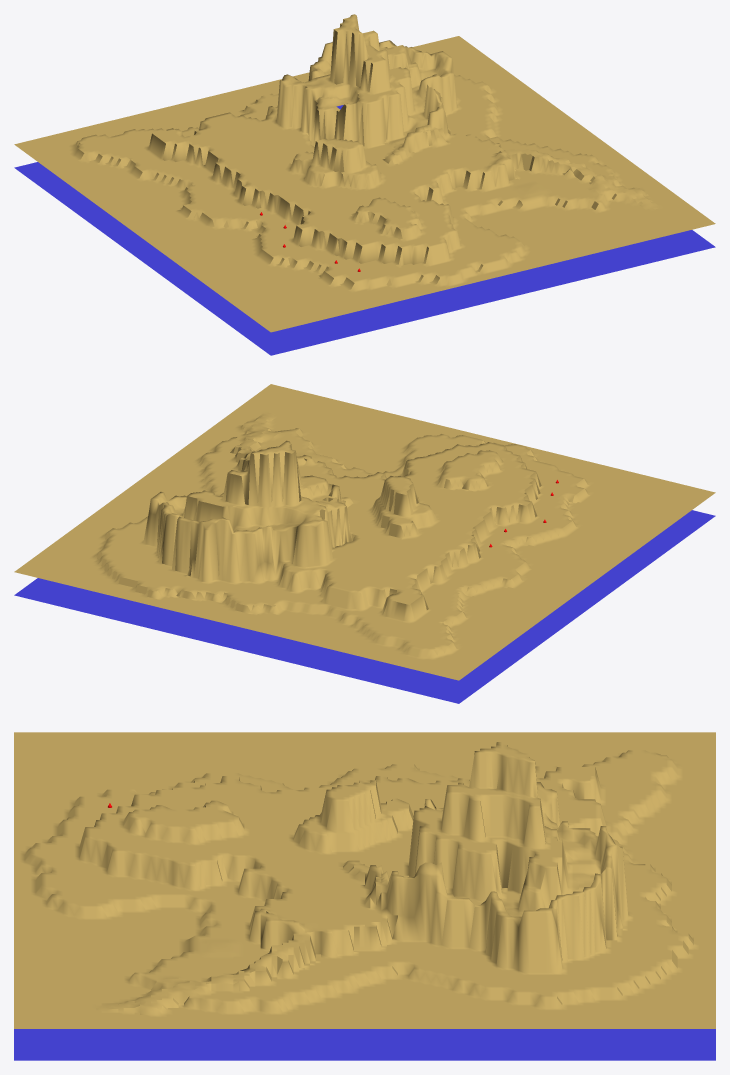
Rendered from Mountain.glb.
3 renders of one model, top to bottom at view 1: azimuth 30°, elevation 25°; view 2: azimuth 150°, elevation 25°; view 3: azimuth 270°, elevation 25°, orthographic. The views are drawn at different scales.
Parts seen in each view (by area): view 1: Landscape, BasePlate; view 2: Landscape, BasePlate; view 3: Landscape, BasePlate.
Boxes of the visible parts, x1=… form: Landscape: x1=14, y1=14, x2=715, y2=332; BasePlate: x1=14, y1=105, x2=715, y2=355; Landscape: x1=14, y1=384, x2=715, y2=680; BasePlate: x1=14, y1=510, x2=715, y2=703; Landscape: x1=14, y1=732, x2=715, y2=1028; BasePlate: x1=14, y1=1029, x2=715, y2=1060.
Bounding box in the file's own units: 2 × 0.5798 × 2.
